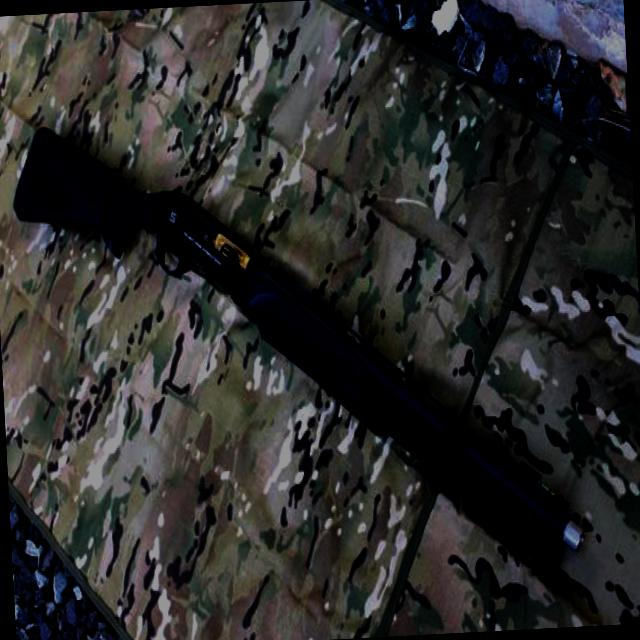shotgun: (0, 30, 640, 640)
